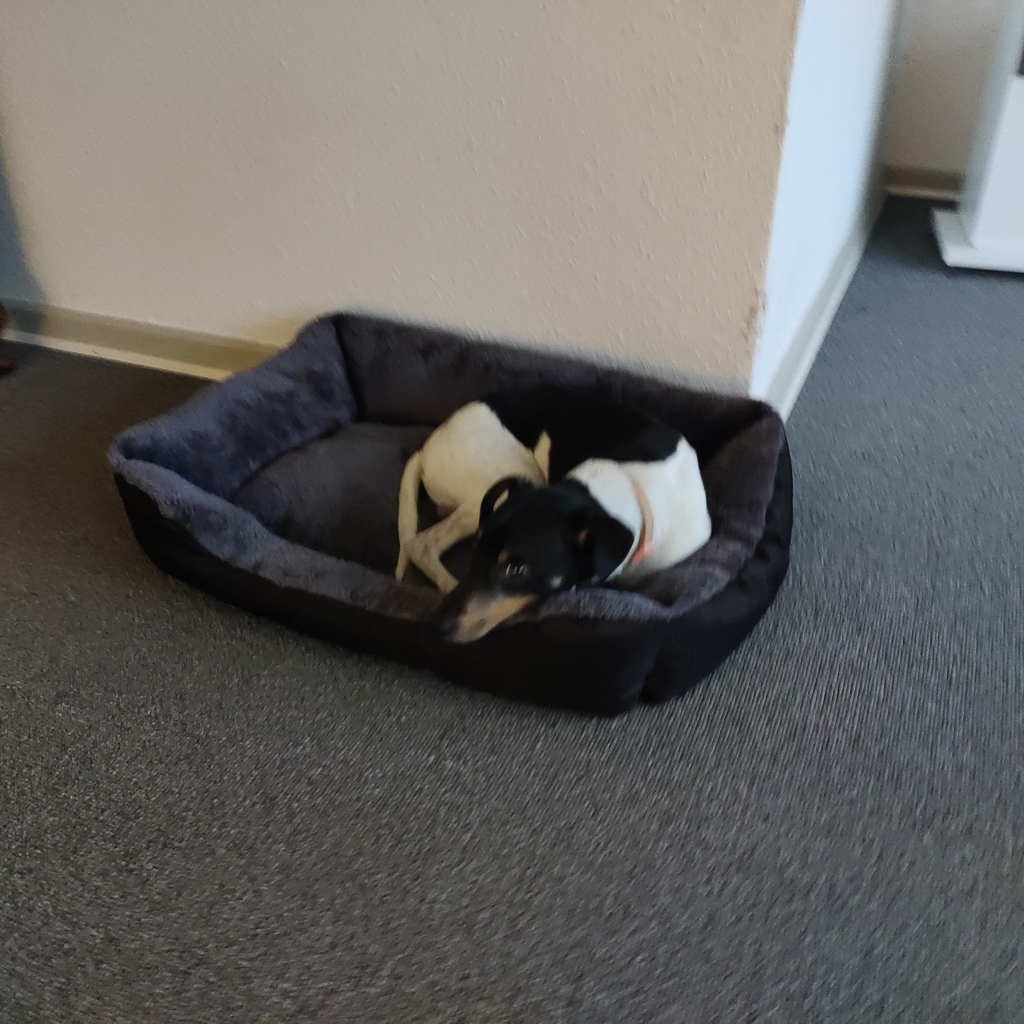Dog: (325, 317, 765, 743)
